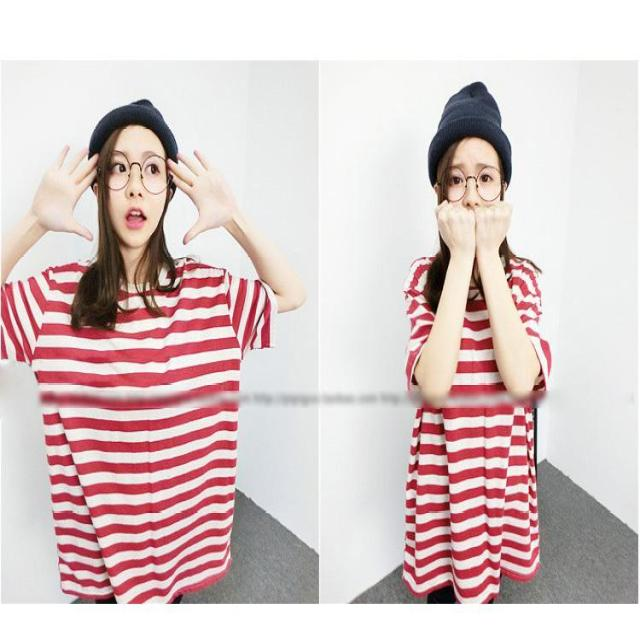short sleeve dress: (3, 264, 274, 602), (402, 253, 547, 603)
